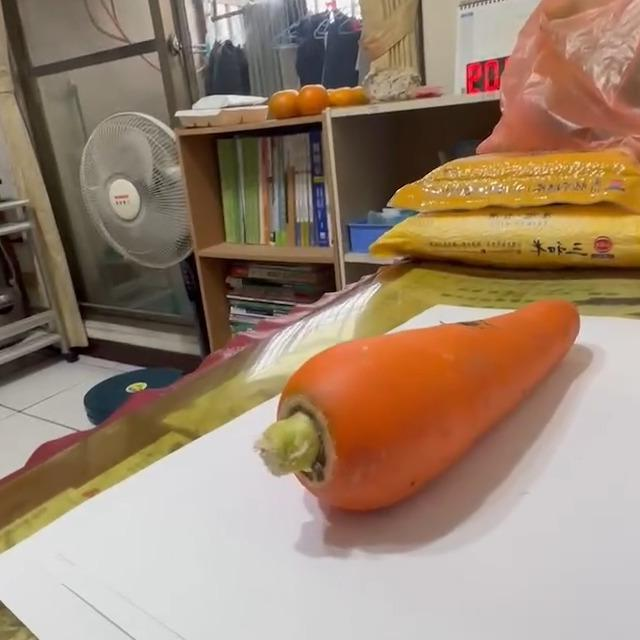carrot: (253, 298, 581, 517)
